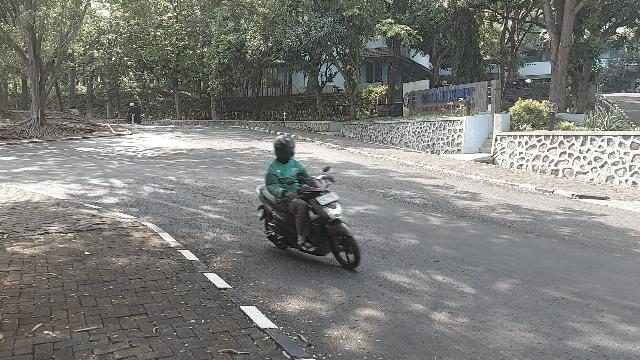helm: (275, 137, 295, 160)
motor: (259, 168, 362, 271)
